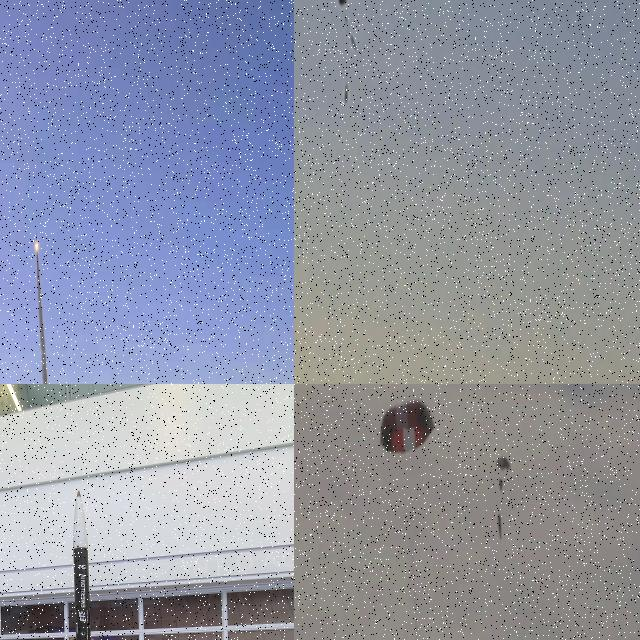Rocket: (73, 490, 91, 640), (343, 83, 350, 105), (36, 232, 37, 244)
